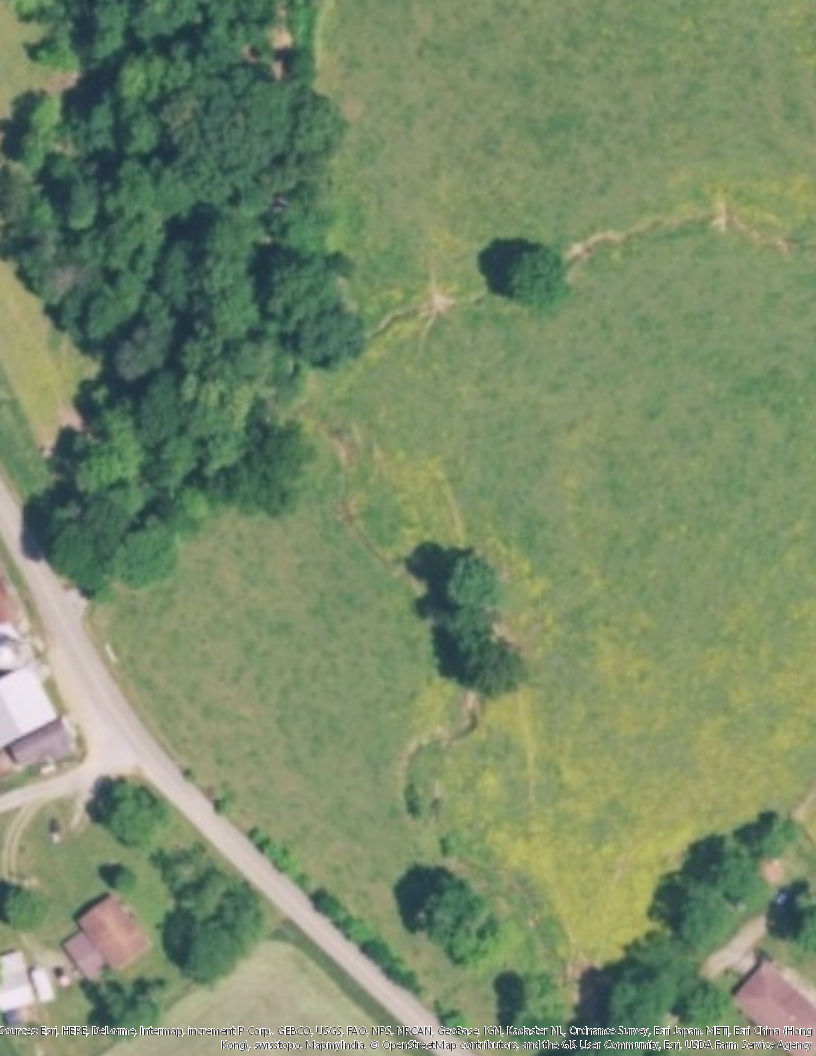cafo: (1, 670, 88, 770)
